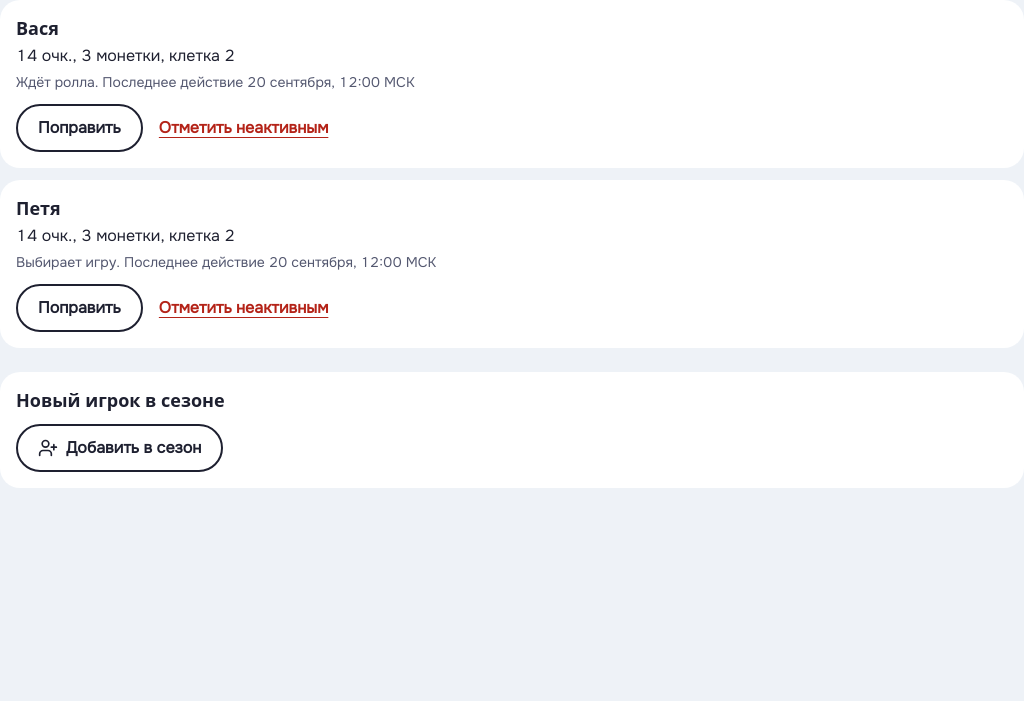
The players › offers to discard the rolled game only while the player has one
Click the button with test id "adjust-open" at (79, 128), box [16,104,143,152]
(page scrolled)
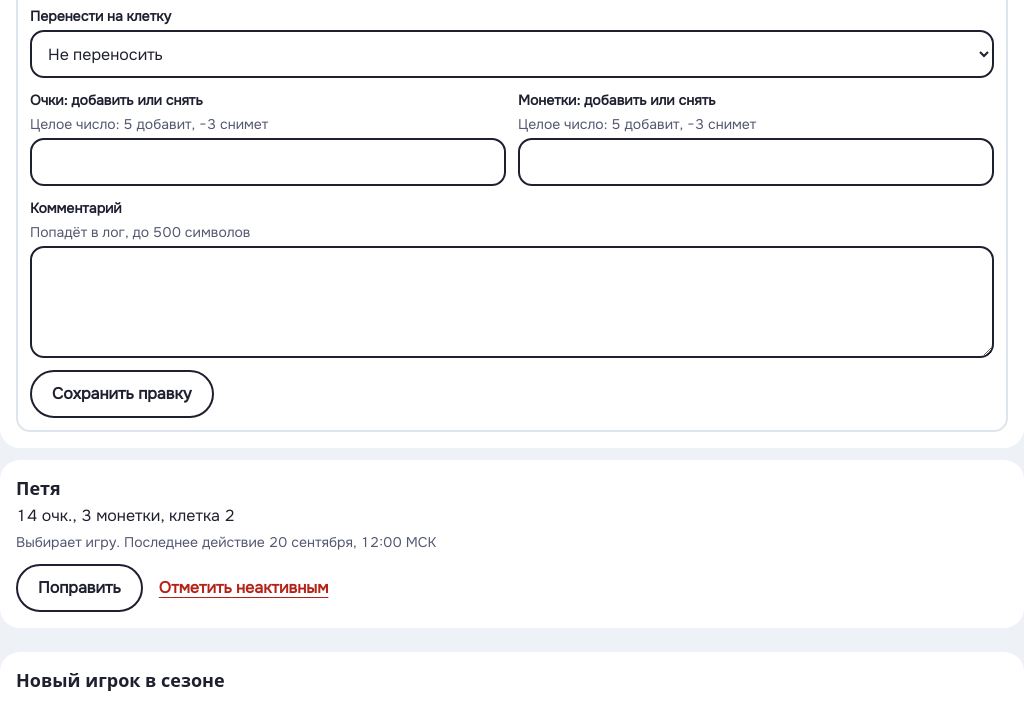
Click the button with test id "adjust-open" at (79, 588), box [16,564,143,612]
(page scrolled)
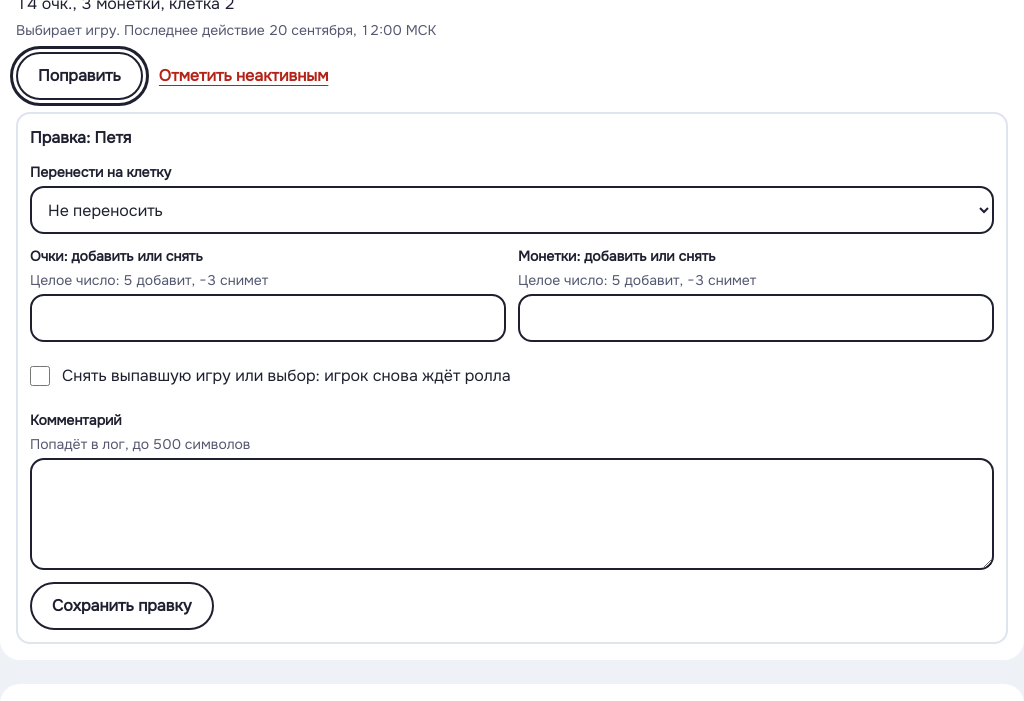
expect the checkbox with test id "adjust-discard" is shown: met, box [30,366,50,386]
